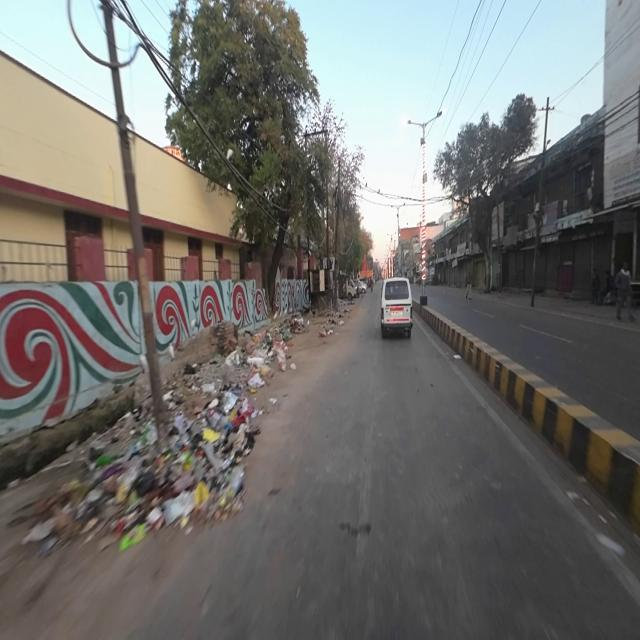Garbage: (80, 381, 250, 550)
